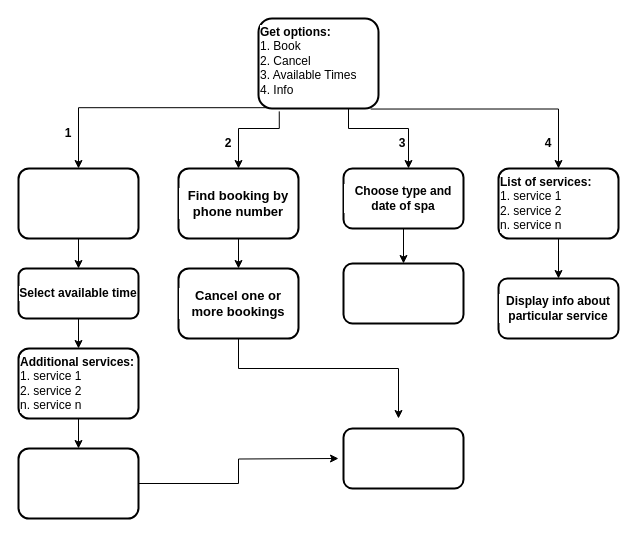
This 636x536 diagram has some shape labels left out. The box of each missing label's shape, as (x1, y1, x2, y2) in pixels:
Display info about available times: (342, 262, 464, 324)
Get spa type: 1. type 1 2. type 2 n. type n: (17, 167, 139, 239)
Set contac info: 1. first name 2. last name n. phone number: (17, 447, 139, 519)
Success message: (342, 427, 464, 489)
